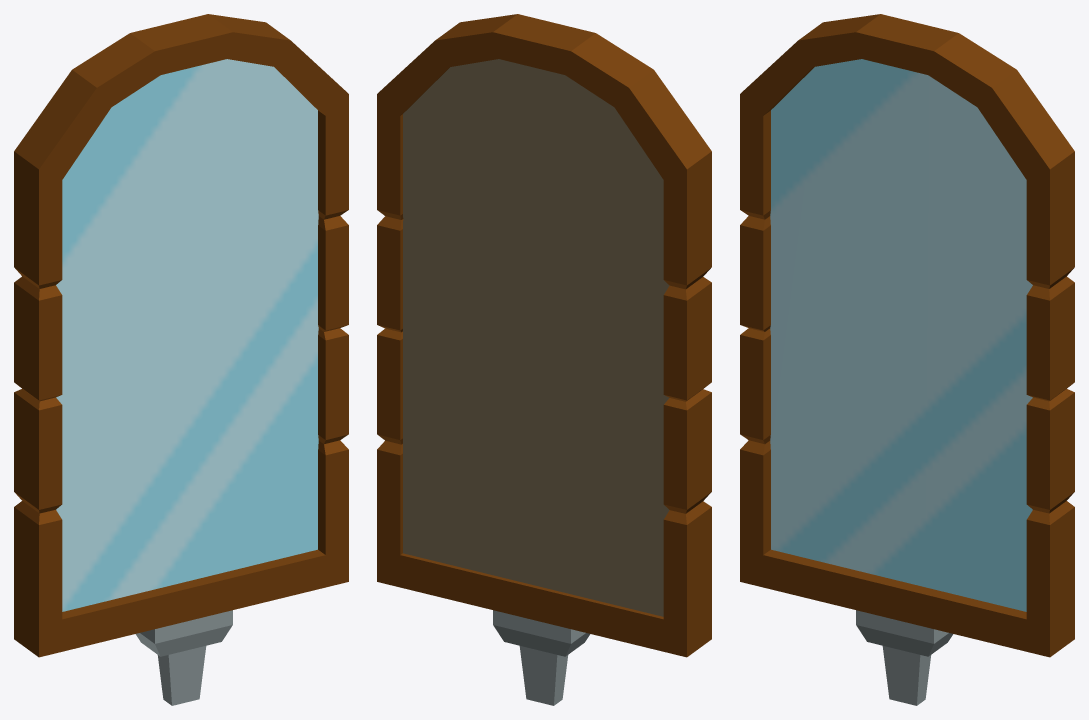
The model's file is RMirror_Mirror.fbx.
3 renders of one model, left to right at view 1: azimuth 30°, elevation 25°; view 2: azimuth 150°, elevation 25°; view 3: azimuth 330°, elevation 25°, orthographic.
Visible parts, largest first — view 1: Cube.000; view 2: Cube.000; view 3: Cube.000.
Boxes of the visible parts, <box> form: Cube.000: <box>14,14,348,705</box>; Cube.000: <box>377,14,711,705</box>; Cube.000: <box>740,14,1074,705</box>.
Bounding box in the file's own units: 107 × 220 × 14.88.
